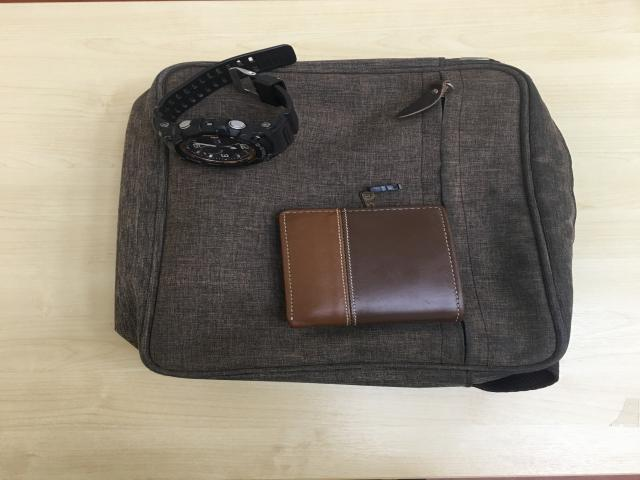Wallet: (274, 207, 463, 331)
Watch: (159, 49, 299, 170)
